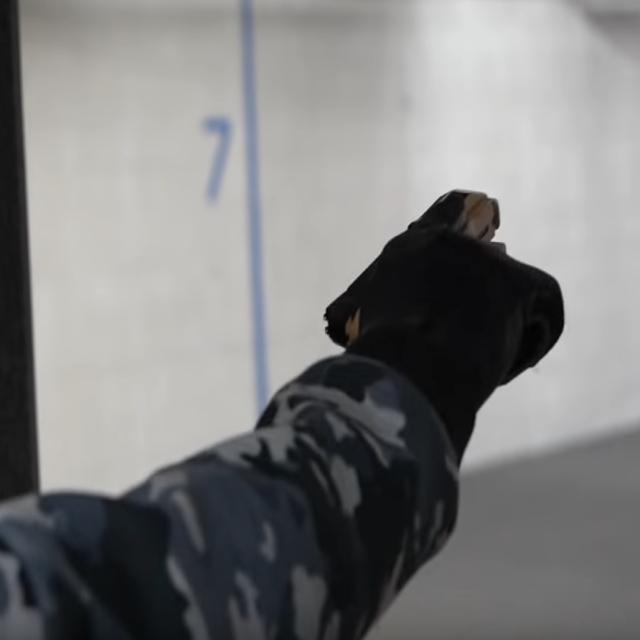gun: (321, 188, 506, 352)
